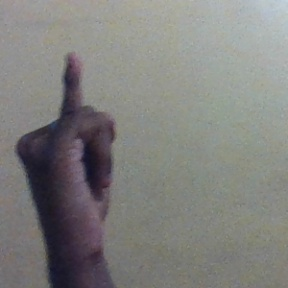I: (14, 51, 119, 250)
